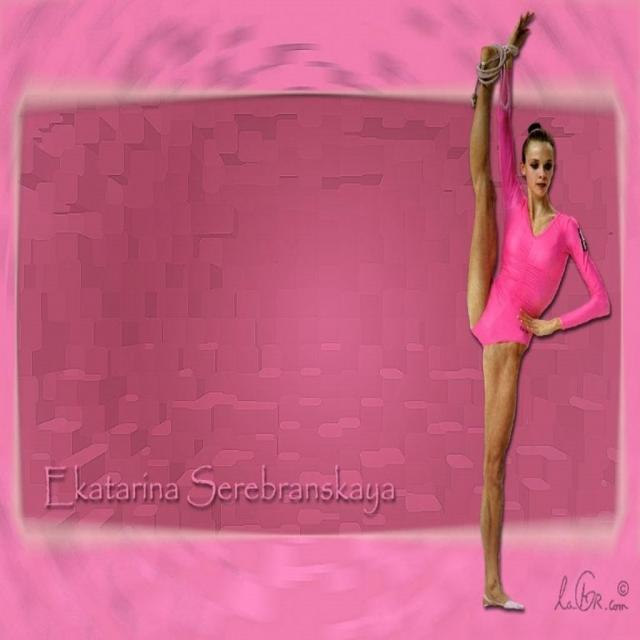nomask: (525, 147, 554, 196)
